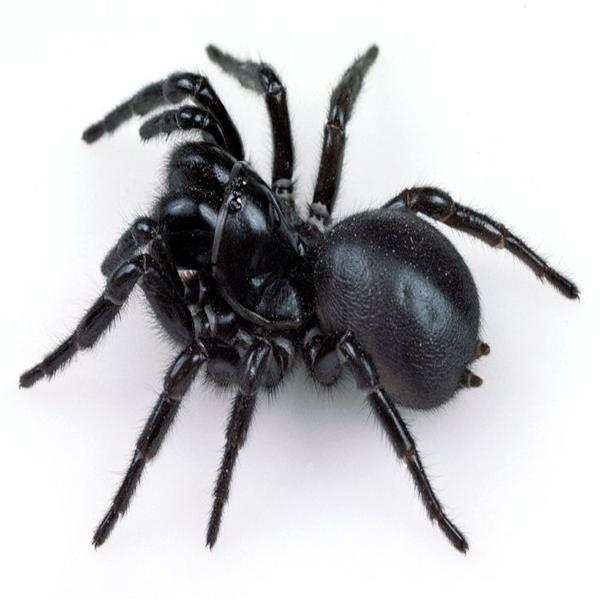Funnel Web Spider: (38, 46, 579, 550)
